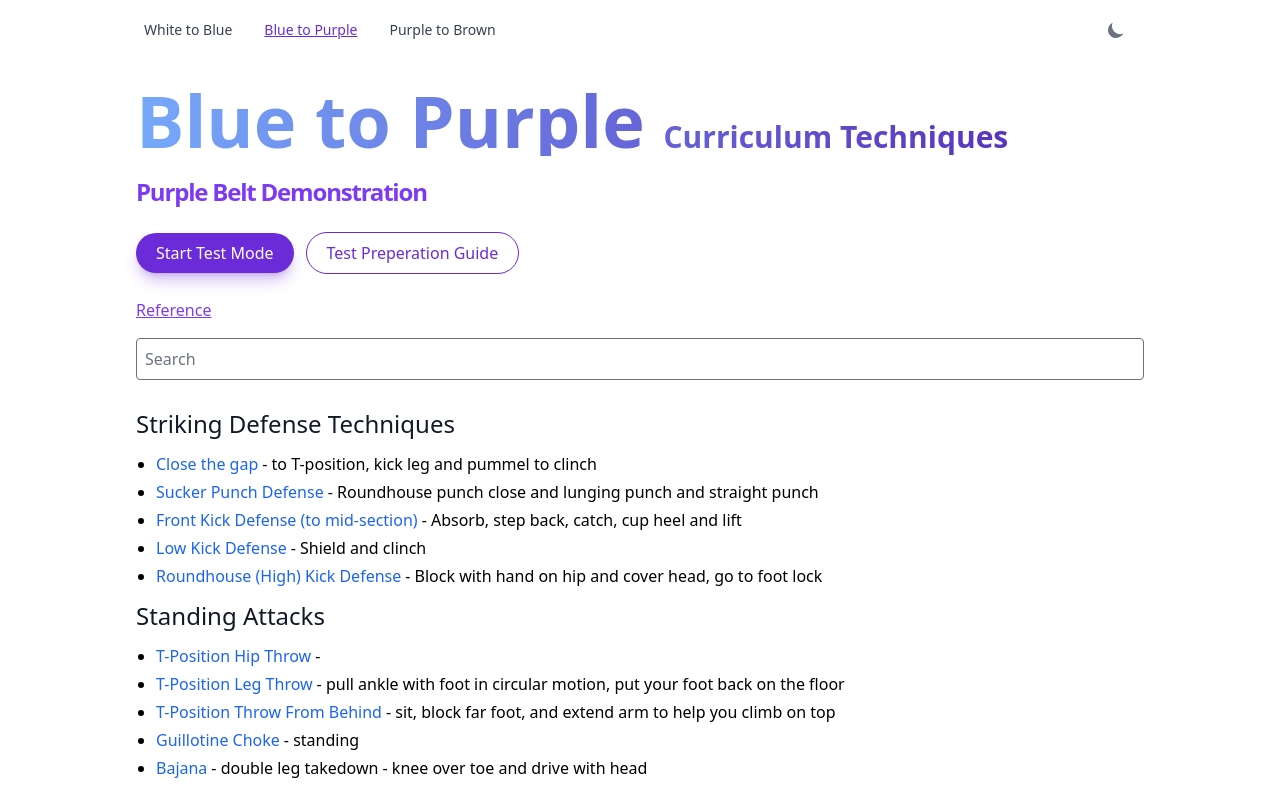
Test: navigates to test preperation guide page
Click the link "Test Preperation Guide" at [412, 253], box x1=306 y1=232 x2=519 y2=274
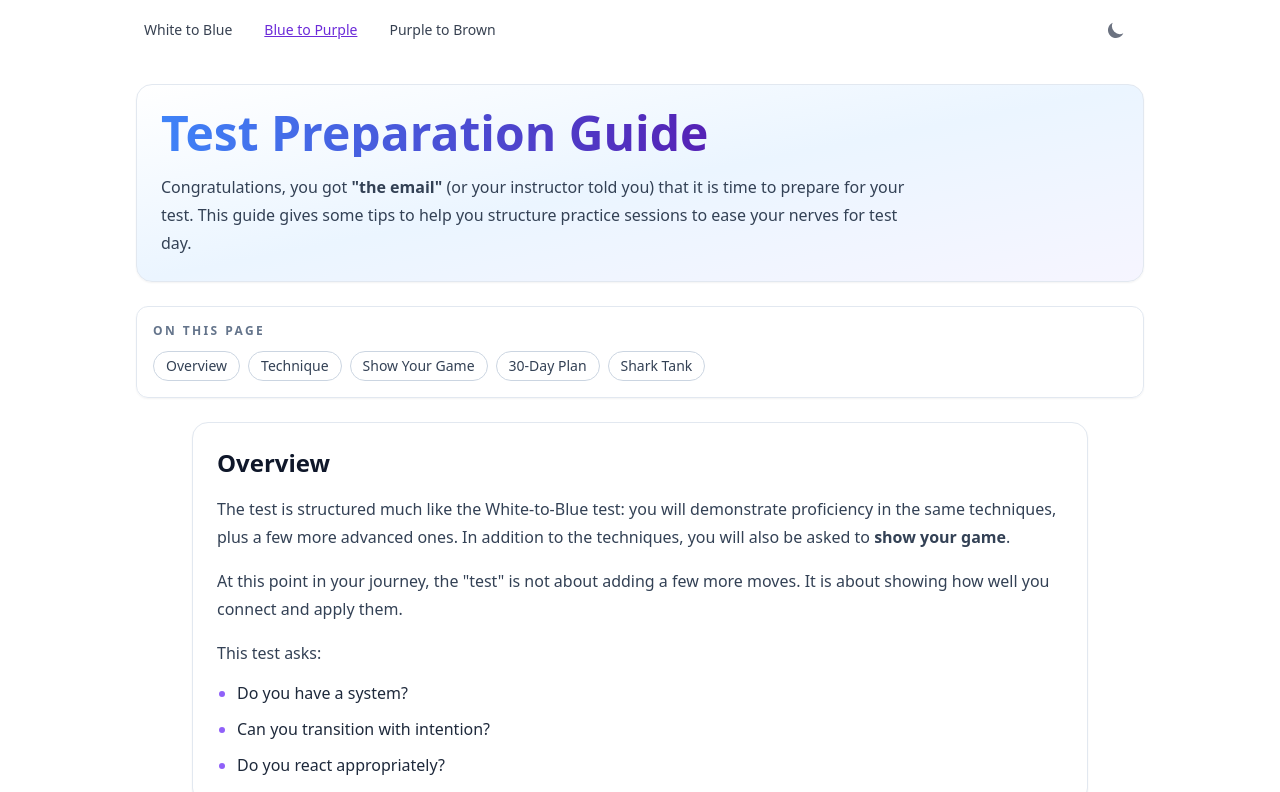
Now the heading "Test Preparation Guide" is shown, box x1=161 y1=109 x2=708 y2=157
